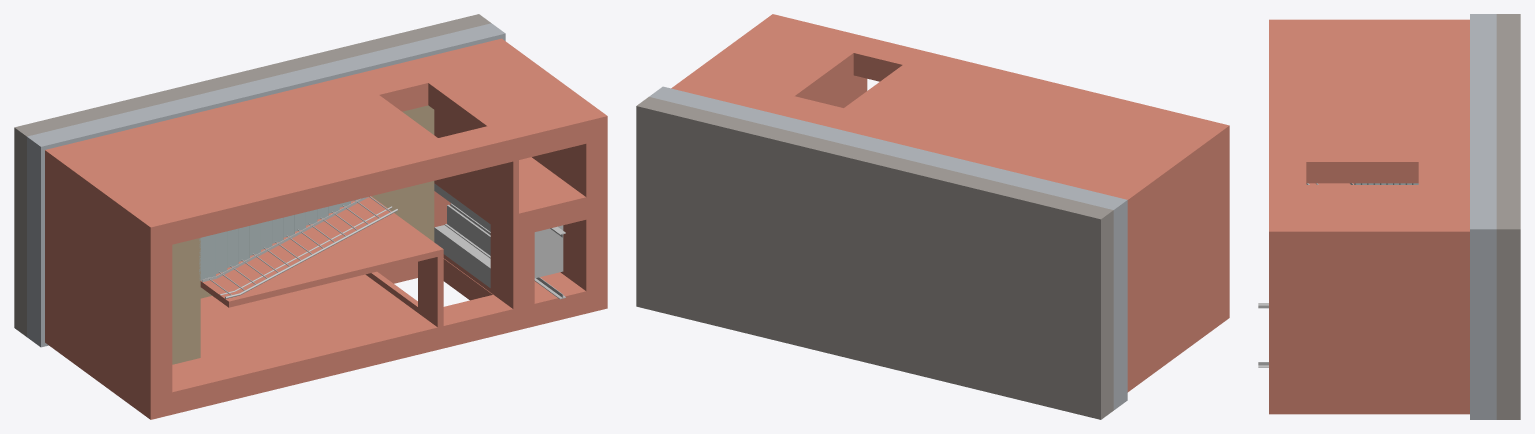
Rendered from Sezhinskaya29-9lk1.obj.
The picture shows the model from 3 angles, left to right: view 1: azimuth 30°, elevation 25°; view 2: azimuth 150°, elevation 25°; view 3: azimuth 270°, elevation 25°; orthographic projection. The views are drawn at different scales.
Visible parts, largest first — view 1: Стены__Базовая стена__ADSK_Внутренняя_Кирпич 760__491026, Стены__Базовая стена__ADSK_Внутренняя_Кирпич 760__490906, Стены__Базовая стена__ADSK_Внутренняя_Кирпич 760__491465, Перекрытия__Перекрытие__ADSK_Фундамент__491567, Стены__Базовая стена__ADSK_Внутренняя_Кирпич_120__494204, Стены__Базовая стена__ADSK_Внутренняя_Кирпич 760__490953, Перекрытия__Перекрытие__ADSK_Пол_По грунту_448__493793, Специальное оборудование__Электрический подъемник 4-местный стен, Стены__Базовая стена__ADSK_Внутренняя_Кирпич 760__491365, Стены__Базовая стена__ADSK_Внутренняя_Кирпич_120__501983, Проступи/подступенки__Марш(Внутренний)__500650, Стены__Базовая стена__ADSK_Внутренняя_Кирпич 760__491322 (+4 smaller); view 2: Перекрытия__Перекрытие__ADSK_Пол_По грунту_448__493793, Стены__Базовая стена__ADSK_Внутренняя_Кирпич 760__491026, Стены__Базовая стена__ADSK_Внутренняя_Кирпич 760__491465, Перекрытия__Перекрытие__ADSK_Фундамент__491567, Стены__Базовая стена__ADSK_Внутренняя_Кирпич 760__490906, Стены__Базовая стена__ADSK_Внутренняя_Кирпич 760__490953, Стены__Базовая стена__ADSK_Внутренняя_Кирпич_120__501983; view 3: Стены__Базовая стена__ADSK_Внутренняя_Кирпич 760__491026, Стены__Базовая стена__ADSK_Внутренняя_Кирпич 760__490953, Перекрытия__Перекрытие__ADSK_Фундамент__491567, Перекрытия__Перекрытие__ADSK_Пол_По грунту_448__493793, Стены__Базовая стена__ADSK_Внутренняя_Кирпич 760__490906.
Part boxes in pixels (x1=…): Стены__Базовая стена__ADSK_Внутренняя_Кирпич 760__491026: x1=45, y1=44, x2=586, y2=249; Стены__Базовая стена__ADSK_Внутренняя_Кирпич 760__490906: x1=45, y1=258, x2=607, y2=419; Стены__Базовая стена__ADSK_Внутренняя_Кирпич 760__491465: x1=45, y1=173, x2=172, y2=397; Перекрытия__Перекрытие__ADSK_Фундамент__491567: x1=27, y1=23, x2=505, y2=347; Стены__Базовая стена__ADSK_Внутренняя_Кирпич_120__494204: x1=200, y1=198, x2=437, y2=307; Стены__Базовая стена__ADSK_Внутренняя_Кирпич 760__490953: x1=480, y1=38, x2=607, y2=291; Перекрытия__Перекрытие__ADSK_Пол_По грунту_448__493793: x1=14, y1=14, x2=491, y2=336; Специальное оборудование__Электрический подъемник 4-местный стен: x1=434, y1=183, x2=565, y2=299; Стены__Базовая стена__ADSK_Внутренняя_Кирпич 760__491365: x1=434, y1=180, x2=534, y2=308; Стены__Базовая стена__ADSK_Внутренняя_Кирпич_120__501983: x1=434, y1=110, x2=518, y2=237; Проступи/подступенки__Марш(Внутренний)__500650: x1=199, y1=199, x2=359, y2=280; Стены__Базовая стена__ADSK_Внутренняя_Кирпич 760__491322: x1=519, y1=157, x2=586, y2=235; Перекрытия__Перекрытие__ADSK_Пол_По грунту_448__493793: x1=636, y1=97, x2=1113, y2=419; Стены__Базовая стена__ADSK_Внутренняя_Кирпич 760__491026: x1=693, y1=19, x2=1229, y2=221; Стены__Базовая стена__ADSK_Внутренняя_Кирпич 760__491465: x1=1127, y1=148, x2=1229, y2=369; Перекрытия__Перекрытие__ADSK_Фундамент__491567: x1=649, y1=86, x2=1127, y2=410; Стены__Базовая стена__ADSK_Внутренняя_Кирпич 760__490906: x1=1127, y1=296, x2=1229, y2=392; Стены__Базовая стена__ADSK_Внутренняя_Кирпич 760__490953: x1=671, y1=14, x2=793, y2=93; Стены__Базовая стена__ADSK_Внутренняя_Кирпич_120__501983: x1=818, y1=75, x2=867, y2=107; Стены__Базовая стена__ADSK_Внутренняя_Кирпич 760__491026: x1=1269, y1=19, x2=1469, y2=221; Стены__Базовая стена__ADSK_Внутренняя_Кирпич 760__490953: x1=1269, y1=221, x2=1469, y2=392; Перекрытия__Перекрытие__ADSK_Фундамент__491567: x1=1470, y1=14, x2=1496, y2=419; Перекрытия__Перекрытие__ADSK_Пол_По грунту_448__493793: x1=1496, y1=14, x2=1520, y2=419; Стены__Базовая стена__ADSK_Внутренняя_Кирпич 760__490906: x1=1269, y1=393, x2=1469, y2=414.
Size of the model in its own units: 9540 by 3935 by 4913.
